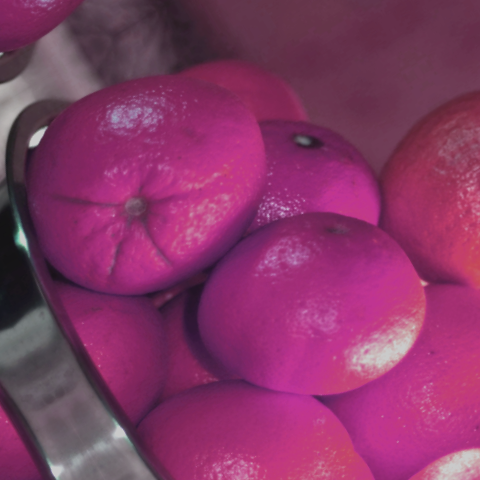orange: (149, 131, 480, 455), (0, 13, 317, 349)
